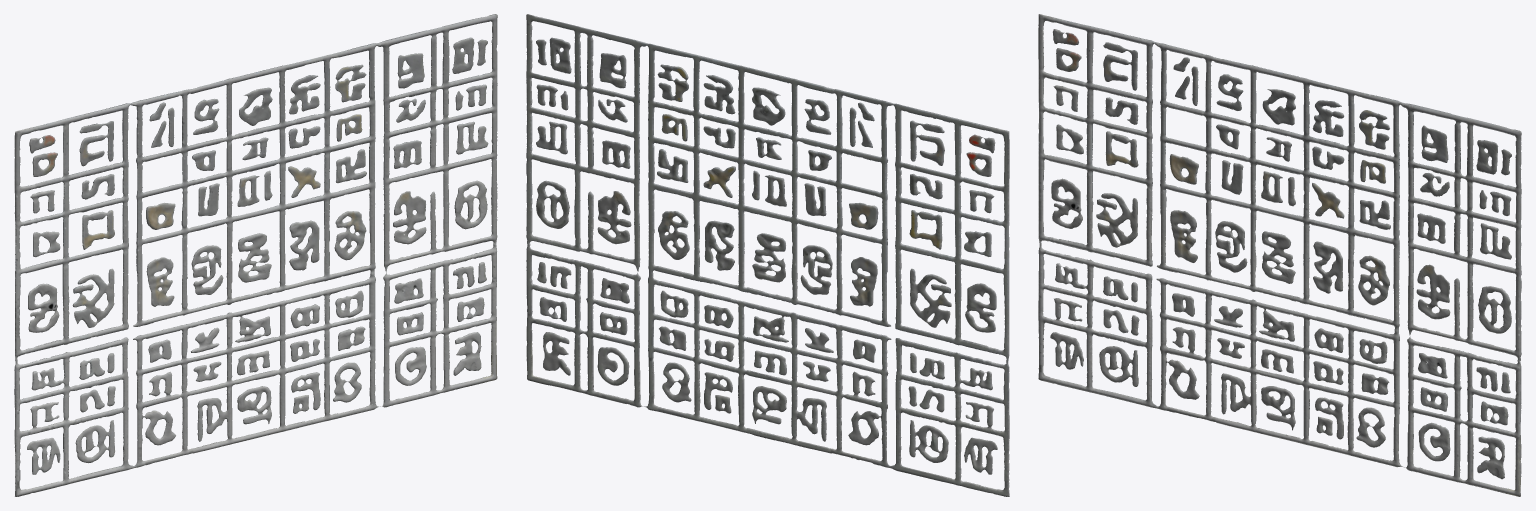
File: Meshy_AI_Alphabet_Security_Maz_0305080117_texture.glb
3 views of the same model, side by side, from view 1: azimuth 30°, elevation 25°; view 2: azimuth 150°, elevation 25°; view 3: azimuth 330°, elevation 25° (orthographic).
Bounding box in the file's own units: 2 × 1.45 × 0.0188.
Materials: 1 (1 with a texture image).
